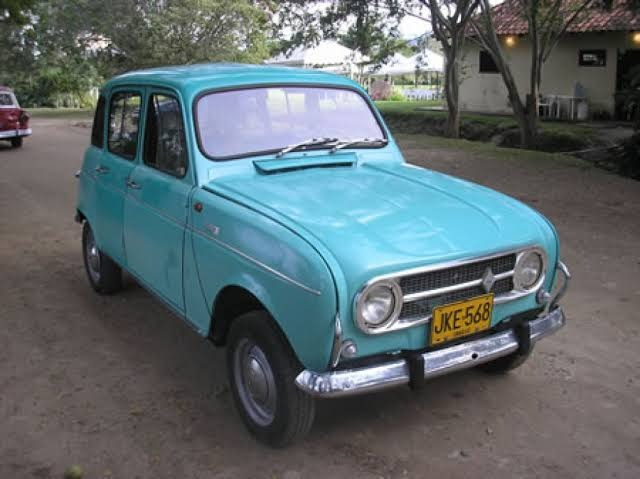car: (66, 63, 562, 444), (1, 86, 27, 150)
